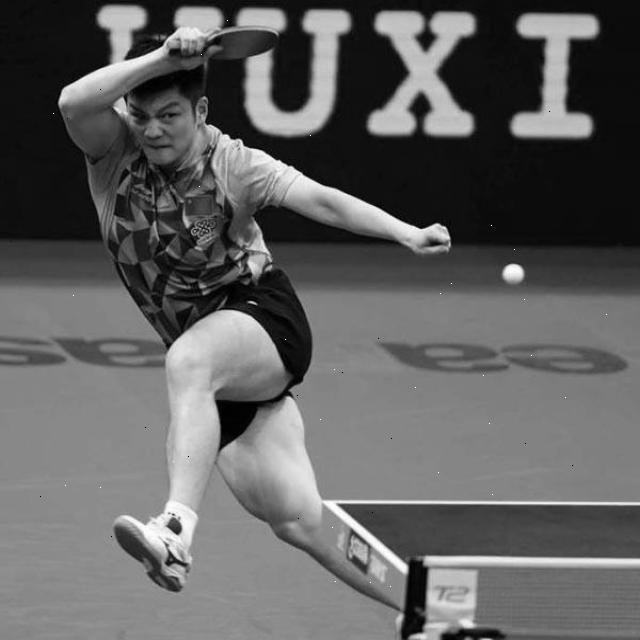ping-pong-ball: (497, 260, 527, 288)
